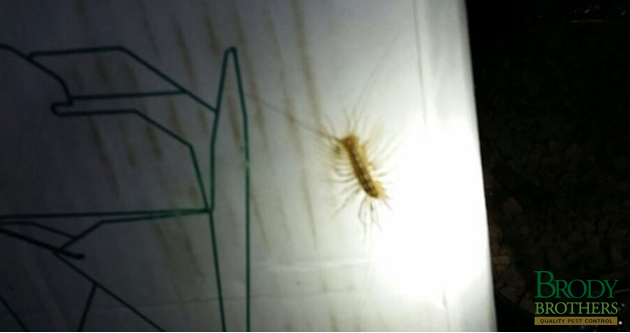centipede: (311, 114, 421, 227)
